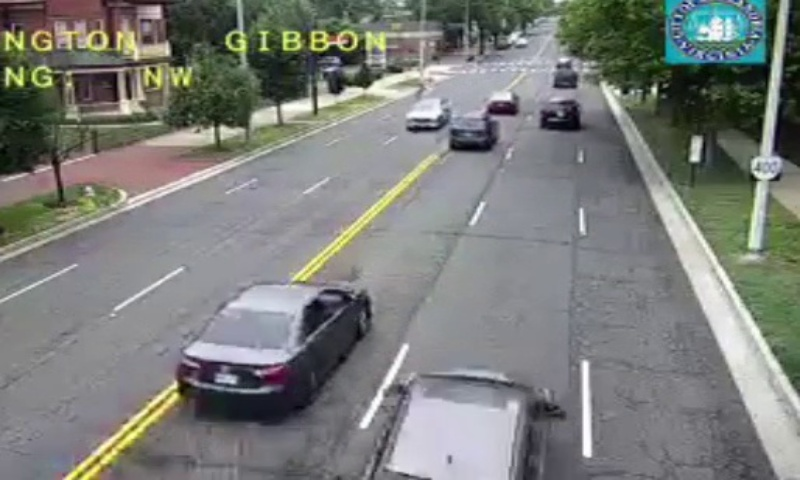car: (178, 283, 370, 396), (367, 374, 539, 480), (450, 115, 498, 150), (540, 100, 579, 130), (488, 91, 516, 113)
